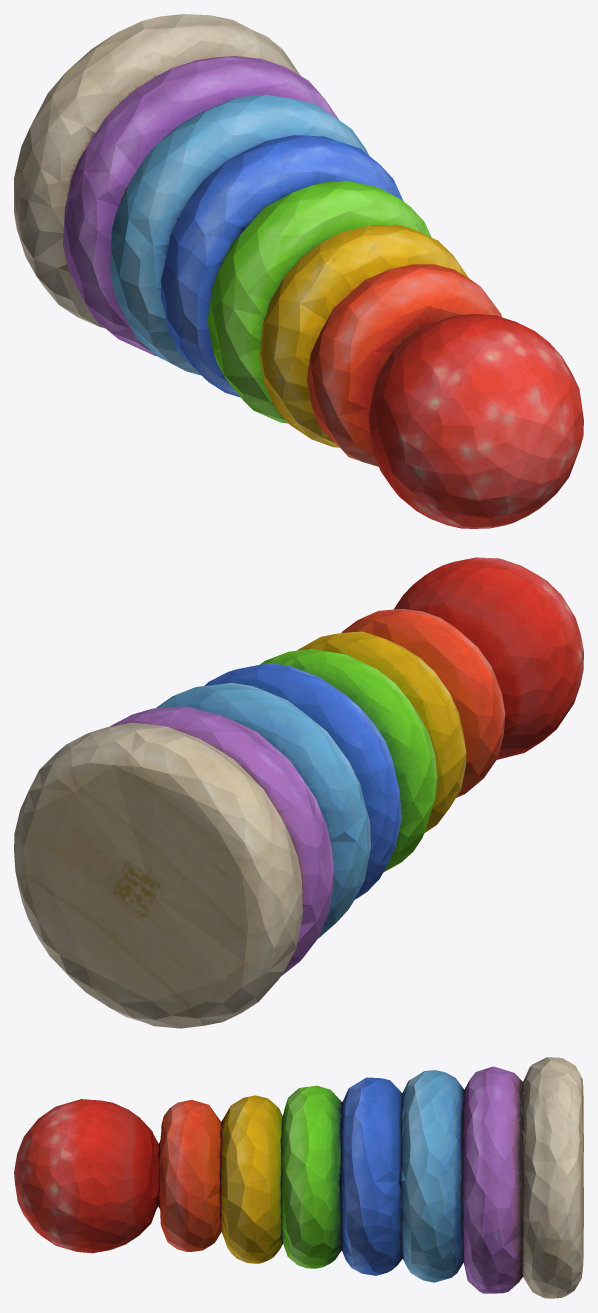
3 views of the same model, one above another, from view 1: azimuth 30°, elevation 25°; view 2: azimuth 150°, elevation 25°; view 3: azimuth 270°, elevation 25° (orthographic). The views are drawn at different scales.
Bounding box in the file's own units: 0.0796 × 0.079 × 0.1874.
Materials: 1 (1 with a texture image).
